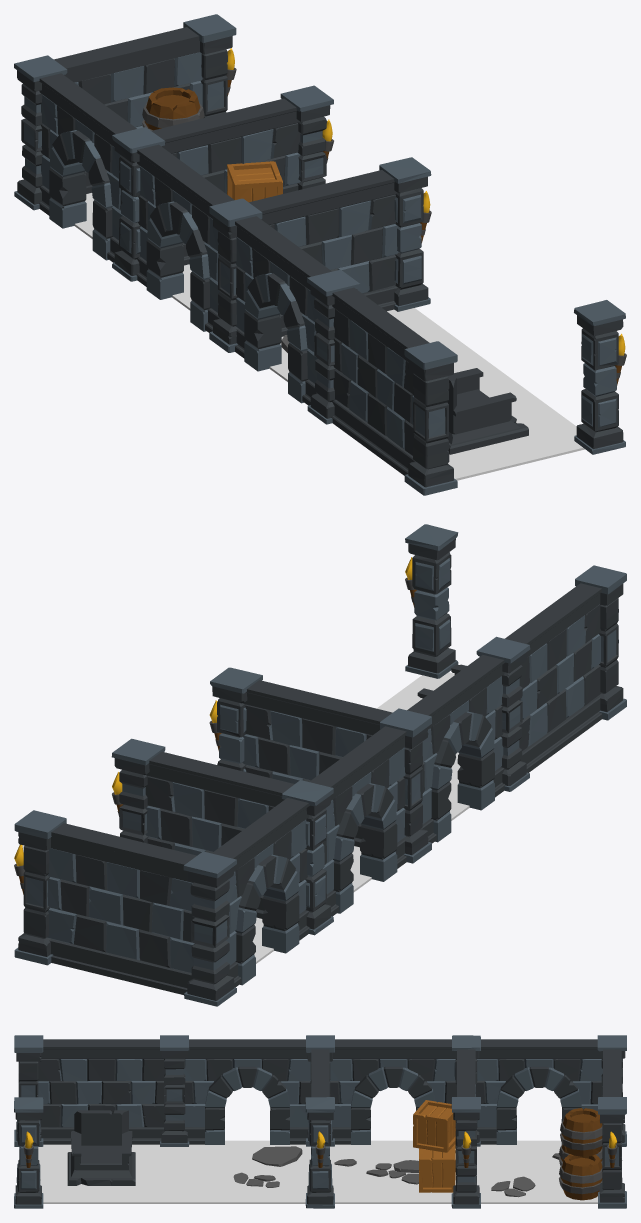
File: Modular_dungeon_assets.fbx
The picture shows the model from 3 angles, top to bottom: view 1: azimuth 30°, elevation 25°; view 2: azimuth 150°, elevation 25°; view 3: azimuth 270°, elevation 25°; orthographic projection. The views are drawn at different scales.
Parts seen in each view (by area): view 1: pillar with wall_C, pillar with wall_B, pillar with door wall_C, pillar with door wall_A, pillar with door wall_B, pillar with wall_A, separate wall, pillar_C, Floor, throne, pillar_A, pillar_B (+3 smaller); view 2: separate wall, pillar with door wall_A, pillar with wall_C, pillar with door wall_B, pillar with door wall_C, pillar with wall_A, pillar with wall_B, pillar_C, pillar_B, pillar_A, Floor; view 3: pillar with wall_C, pillar with door wall_C, pillar with door wall_A, pillar with door wall_B, Floor_C, Floor_B, Floor_A, Floor, throne, pillar with wall_B, pillar with wall_A, pillar_A (+11 smaller).
Boxes of the visible parts, left/top/right/bottom form: pillar with wall_C: left=331, top=287, right=457, bottom=495; pillar with wall_B: left=249, top=157, right=431, bottom=336; pillar with door wall_C: left=209, top=198, right=331, bottom=405; pillar with door wall_A: left=14, top=55, right=136, bottom=262; pillar with door wall_B: left=112, top=127, right=234, bottom=332; pillar with wall_A: left=151, top=85, right=333, bottom=265; separate wall: left=54, top=27, right=202, bottom=193; pillar_C: left=574, top=300, right=625, bottom=454; Floor: left=448, top=372, right=585, bottom=480; throne: left=447, top=368, right=528, bottom=454; pillar_A: left=307, top=269, right=360, bottom=424; pillar_B: left=183, top=14, right=236, bottom=117; separate wall: left=47, top=823, right=196, bottom=994; pillar with door wall_A: left=183, top=798, right=309, bottom=1006; pillar with wall_C: left=505, top=565, right=626, bottom=772; pillar with door wall_B: left=281, top=726, right=406, bottom=935; pillar with door wall_C: left=380, top=655, right=505, bottom=863; pillar with wall_A: left=111, top=738, right=294, bottom=918; pillar with wall_B: left=210, top=667, right=392, bottom=847; pillar_C: left=405, top=524, right=458, bottom=678; pillar_B: left=14, top=810, right=66, bottom=965; pillar_A: left=476, top=636, right=530, bottom=791; Floor: left=377, top=672, right=460, bottom=769; pillar with wall_C: left=14, top=1035, right=165, bottom=1146; pillar with door wall_C: left=183, top=1035, right=334, bottom=1146; pillar with door wall_A: left=476, top=1035, right=626, bottom=1146; pillar with door wall_B: left=330, top=1035, right=480, bottom=1146; Floor_C: left=174, top=1140, right=310, bottom=1203; Floor_B: left=330, top=1140, right=456, bottom=1203; Floor_A: left=476, top=1140, right=597, bottom=1203; Floor: left=38, top=1144, right=174, bottom=1203; throne: left=67, top=1110, right=135, bottom=1185; pillar with wall_B: left=305, top=1049, right=334, bottom=1208; pillar with wall_A: left=451, top=1049, right=480, bottom=1208; pillar_A: left=160, top=1035, right=189, bottom=1146.
Bounding box in the file's own units: 1680 × 306 × 502.
